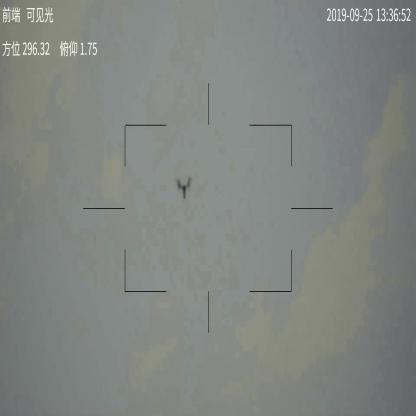uav: (174, 174, 192, 202)
